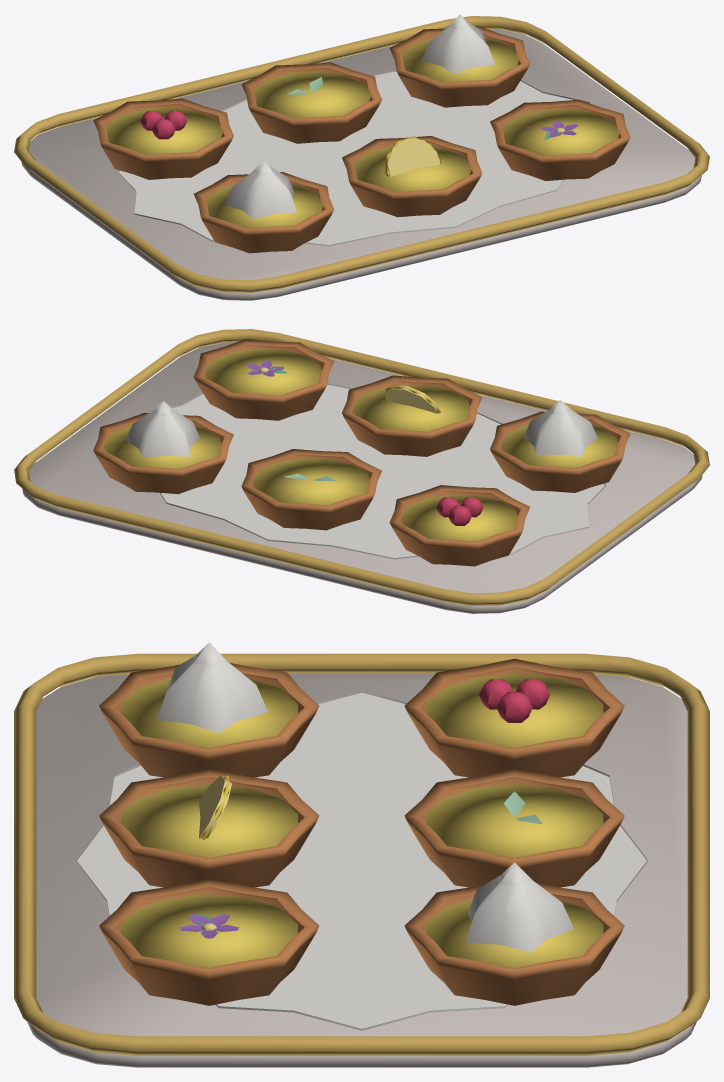
Rendered from lemon_tarts_tray.glb.
3 renders of one model, top to bottom at view 1: azimuth 30°, elevation 25°; view 2: azimuth 150°, elevation 25°; view 3: azimuth 270°, elevation 25°, orthographic. The views are drawn at different scales.
Visible parts, largest first — view 1: lemon_tarts_tray; view 2: lemon_tarts_tray; view 3: lemon_tarts_tray.
Boxes of the visible parts, x1=… form: lemon_tarts_tray: x1=14, y1=14, x2=709, y2=300; lemon_tarts_tray: x1=14, y1=329, x2=709, y2=613; lemon_tarts_tray: x1=14, y1=642, x2=709, y2=1067.
Size of what is drawn, in the model's own units: 0.4 by 0.06 by 0.3.
